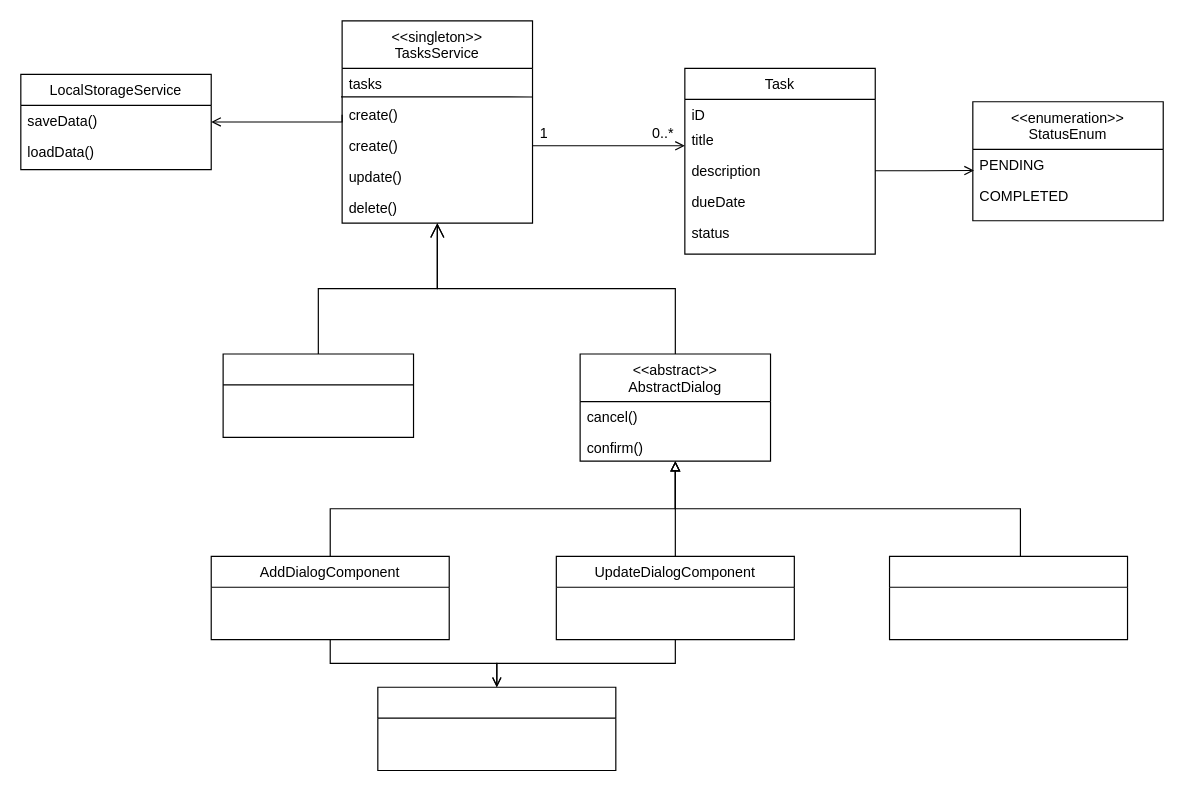
Image size: 1184x791. Some labels were removed from this diagram. Here are the shapes that lost their labels. From the top down, the centre of each, then its label:
[318,395]: DashboardComponent
[1008,597]: DeleteDialogComponent
[496,728]: AddUpdateFormComponent
